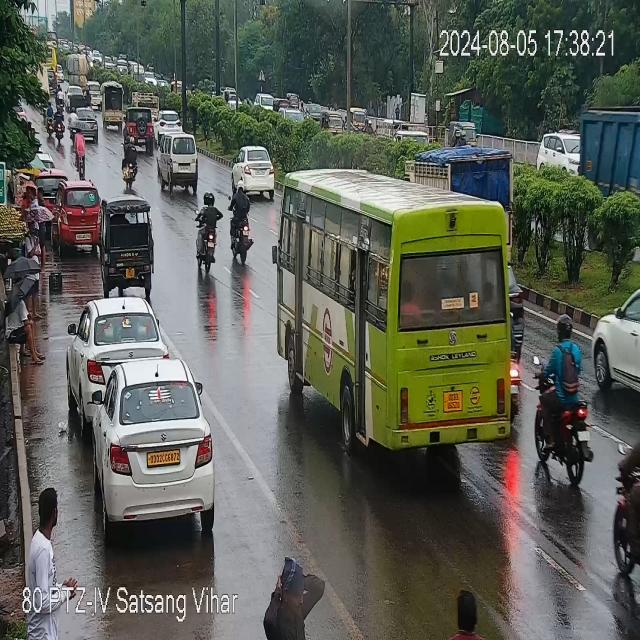2-wheelers: (534, 315, 588, 481), (615, 438, 640, 582), (193, 194, 222, 269), (225, 186, 252, 261), (44, 95, 76, 143), (121, 138, 143, 186), (75, 126, 87, 176)
auto: (103, 195, 159, 285), (101, 82, 128, 126), (318, 111, 348, 133), (350, 107, 368, 132), (273, 93, 292, 111), (69, 95, 85, 108)
bus: (283, 178, 525, 458)
car: (81, 360, 220, 531), (72, 296, 167, 403), (594, 280, 640, 434), (54, 183, 100, 249), (158, 130, 206, 192), (229, 148, 276, 200), (508, 261, 530, 355), (537, 128, 577, 176), (37, 150, 69, 209), (123, 110, 155, 150), (71, 107, 100, 142), (154, 107, 187, 131), (278, 108, 300, 130), (90, 76, 102, 106), (256, 94, 274, 110), (48, 68, 57, 93), (56, 62, 64, 83), (65, 85, 71, 108)
pedestrian: (262, 553, 328, 640), (29, 494, 65, 592), (4, 283, 47, 362), (452, 583, 485, 640), (25, 220, 42, 302), (22, 180, 42, 208)
truck: (568, 102, 636, 210), (410, 143, 517, 202), (377, 120, 426, 146), (66, 54, 90, 85), (131, 94, 161, 109)
